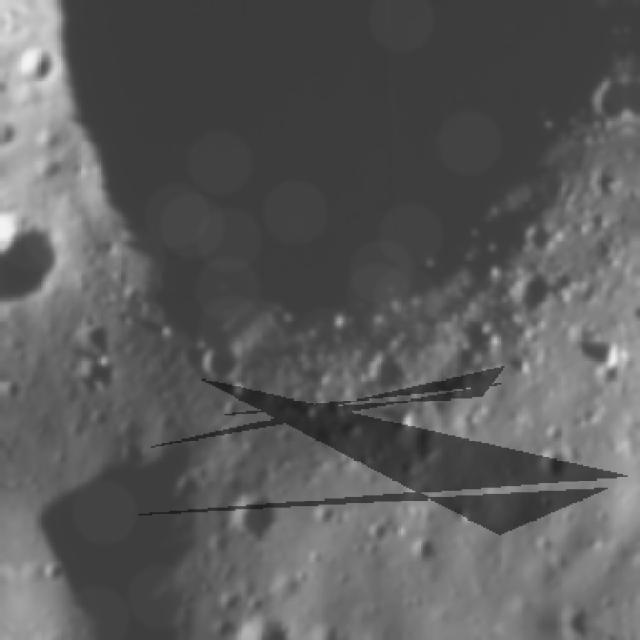crater: (0, 218, 78, 321), (221, 484, 294, 551), (197, 339, 246, 392), (507, 272, 556, 325), (352, 352, 405, 398), (587, 74, 622, 135)
